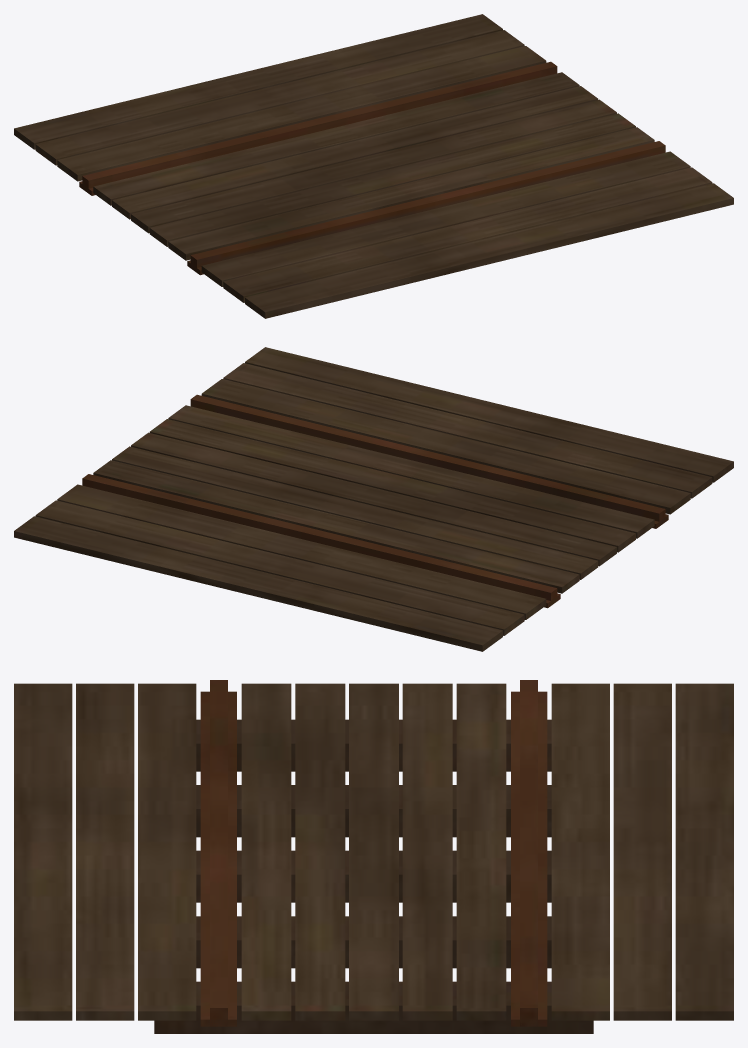
Rendered from rails_crossing_idle.glb.
The picture shows the model from 3 angles, top to bottom: view 1: azimuth 30°, elevation 25°; view 2: azimuth 150°, elevation 25°; view 3: azimuth 270°, elevation 25°; orthographic projection. The views are drawn at different scales.
Parts seen in each view (by area): view 1: rails_crossing; view 2: rails_crossing; view 3: rails_crossing.
Boxes of the visible parts, <box> form: rails_crossing: <box>14,14,733,318</box>; rails_crossing: <box>14,347,733,651</box>; rails_crossing: <box>14,680,733,1033</box>.
Size of the model in its own units: 3 by 0.2 by 2.78.
1 material, 1 textured.
